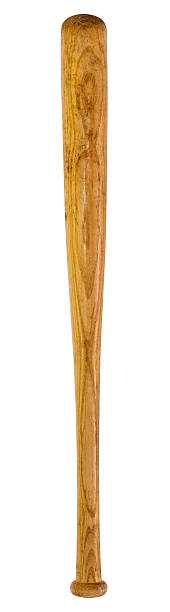bita: (56, 17, 113, 596)
